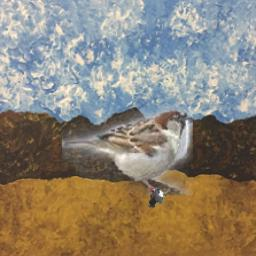Sparrow: (62, 106, 193, 195)
Woodpecker: (148, 187, 168, 207)
